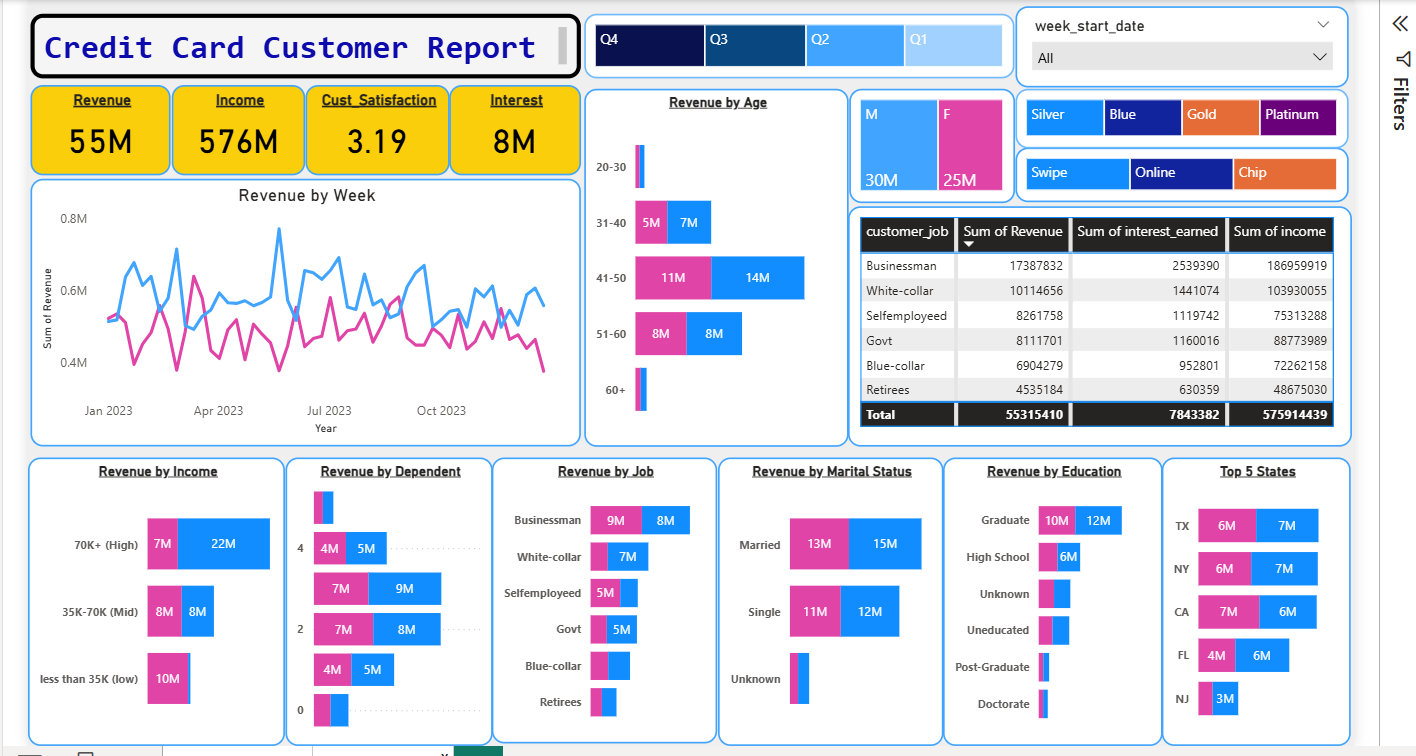

The page's visual inventory and layout, read from the dashboard file:
{"tool":"powerbi","page":{"name":"CC_Customer","canvas":[1280,720],"ordinal":1},"visuals":[{"type":"textbox","box":[2.7,13.6,530.9,62.7],"z":0},{"type":"barChart","title":"Revenue by Income","fields":{"Y":["Sum(public cc_detail.Revenue)"],"Category":["public cust_detail.IncomeGroup"],"Series":["public cust_detail.gender"]},"box":[0,441.8,248.2,278.2],"z":1000},{"type":"card","title":"Revenue","fields":{"Values":["Sum(public cc_detail.Revenue)"]},"box":[2.7,81.8,135.5,87.3],"z":2000},{"type":"card","title":"Income","fields":{"Values":["Sum(public cust_detail.income)"]},"box":[138.2,81.8,129.1,87.3],"z":3000},{"type":"card","title":"Interest","fields":{"Values":["Sum(public cc_detail.interest_earned)"]},"box":[406.4,81.8,127.3,87.3],"z":4000},{"type":"card","title":"Cust_Satisfaction","fields":{"Values":["Avg(public cust_detail.cust_satisfaction_score)"]},"box":[267.3,81.8,139.1,87.3],"z":5000},{"type":"slicer","fields":{"Values":["public cc_detail.week_start_date"]},"box":[952.7,6.4,321.8,78.2],"z":6000},{"type":"treemap","fields":{"Group":["public cc_detail.qtr"],"Values":["CountNonNull(public cc_detail.client_num)"]},"box":[537.3,13.6,415.5,62.7],"z":7000},{"type":"treemap","fields":{"Group":["public cc_detail.use_chip"],"Values":["CountNonNull(public cc_detail.client_num)"]},"box":[952.7,142.7,321.8,52.7],"z":8000},{"type":"tableEx","fields":{"Values":["public cust_detail.customer_job","Sum(public cc_detail.Revenue)","Sum(public cc_detail.interest_earned)","Sum(public cust_detail.income)"]},"box":[790.9,199.1,486.4,231.8],"z":9000},{"type":"lineChart","title":"Revenue by Week","fields":{"Y":["Sum(public cc_detail.Revenue)"],"Series":["public cust_detail.gender"],"Category":["public cc_detail.week_start_date.Variation.Date Hierarchy.Year","public cc_detail.week_start_date.Variation.Date Hierarchy.Month","public cc_detail.week_start_date.Variation.Date Hierarchy.Day"]},"box":[2.7,172.7,530.9,258.2],"z":10000},{"type":"treemap","fields":{"Group":["public cust_detail.gender"],"Values":["Sum(public cc_detail.Revenue)"]},"box":[792.7,85.5,160,110],"z":11000},{"type":"barChart","title":"Revenue by Age","fields":{"Y":["Sum(public cc_detail.Revenue)"],"Category":["public cust_detail.AgeGroup"],"Series":["public cust_detail.gender"]},"box":[537.3,85.5,255.5,345.5],"z":12000},{"type":"barChart","title":"Revenue by Job","fields":{"Y":["Sum(public cc_detail.Revenue)"],"Category":["public cust_detail.customer_job"],"Series":["public cust_detail.gender"]},"box":[448.2,441.8,217.3,276.4],"z":13000},{"type":"barChart","title":"Revenue by Education","fields":{"Y":["Sum(public cc_detail.Revenue)"],"Category":["public cust_detail.education_level"],"Series":["public cust_detail.gender"]},"box":[882.7,441.8,211.8,278.2],"z":14000},{"type":"barChart","title":"Top 5 States","fields":{"Y":["Sum(public cc_detail.Revenue)"],"Category":["public cust_detail.state_cd"],"Series":["public cust_detail.gender"]},"box":[1094.5,441.8,182.7,278.2],"z":15000},{"type":"barChart","title":"Revenue by Dependent","fields":{"Y":["Sum(public cc_detail.Revenue)"],"Category":["public cust_detail.dependent_count"],"Series":["public cust_detail.gender"]},"box":[248.2,441.8,200,278.2],"z":16000},{"type":"barChart","title":"Revenue by Marital Status","fields":{"Y":["Sum(public cc_detail.Revenue)"],"Category":["public cust_detail.marital_status"],"Series":["public cust_detail.gender"]},"box":[665.5,441.8,217.3,278.2],"z":17000},{"type":"treemap","fields":{"Group":["public cc_detail.card_category"],"Values":["CountNonNull(public cc_detail.client_num)"]},"box":[952.7,85.5,321.8,57.3],"z":18000}]}

Visuals, with their boxes in screenshot pixels (x1, y1, x2, y2):
textbox: [left=29, top=14, right=578, bottom=79]
"Revenue by Income" barChart: [left=26, top=457, right=283, bottom=745]
"Revenue" card: [left=29, top=85, right=169, bottom=175]
"Income" card: [left=169, top=85, right=303, bottom=175]
"Interest" card: [left=447, top=85, right=578, bottom=175]
"Cust_Satisfaction" card: [left=303, top=85, right=447, bottom=175]
slicer - public cc_detail.week_start_date: [left=1012, top=7, right=1345, bottom=88]
treemap - public cc_detail.qtr x CountNonNull(public cc_detail.client_num): [left=582, top=14, right=1012, bottom=79]
treemap - public cc_detail.use_chip x CountNonNull(public cc_detail.client_num): [left=1012, top=148, right=1345, bottom=202]
tableEx - public cust_detail.customer_job x Sum(public cc_detail.Revenue): [left=845, top=206, right=1348, bottom=446]
"Revenue by Week" lineChart: [left=29, top=179, right=578, bottom=446]
treemap - public cust_detail.gender x Sum(public cc_detail.Revenue): [left=847, top=89, right=1012, bottom=202]
"Revenue by Age" barChart: [left=582, top=89, right=847, bottom=446]
"Revenue by Job" barChart: [left=490, top=457, right=715, bottom=744]
"Revenue by Education" barChart: [left=940, top=457, right=1159, bottom=745]
"Top 5 States" barChart: [left=1159, top=457, right=1348, bottom=745]
"Revenue by Dependent" barChart: [left=283, top=457, right=490, bottom=745]
"Revenue by Marital Status" barChart: [left=715, top=457, right=940, bottom=745]
treemap - public cc_detail.card_category x CountNonNull(public cc_detail.client_num): [left=1012, top=89, right=1345, bottom=148]
